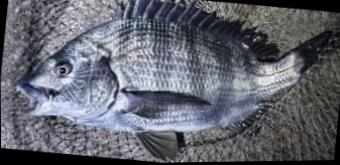fish: (16, 0, 335, 159)
